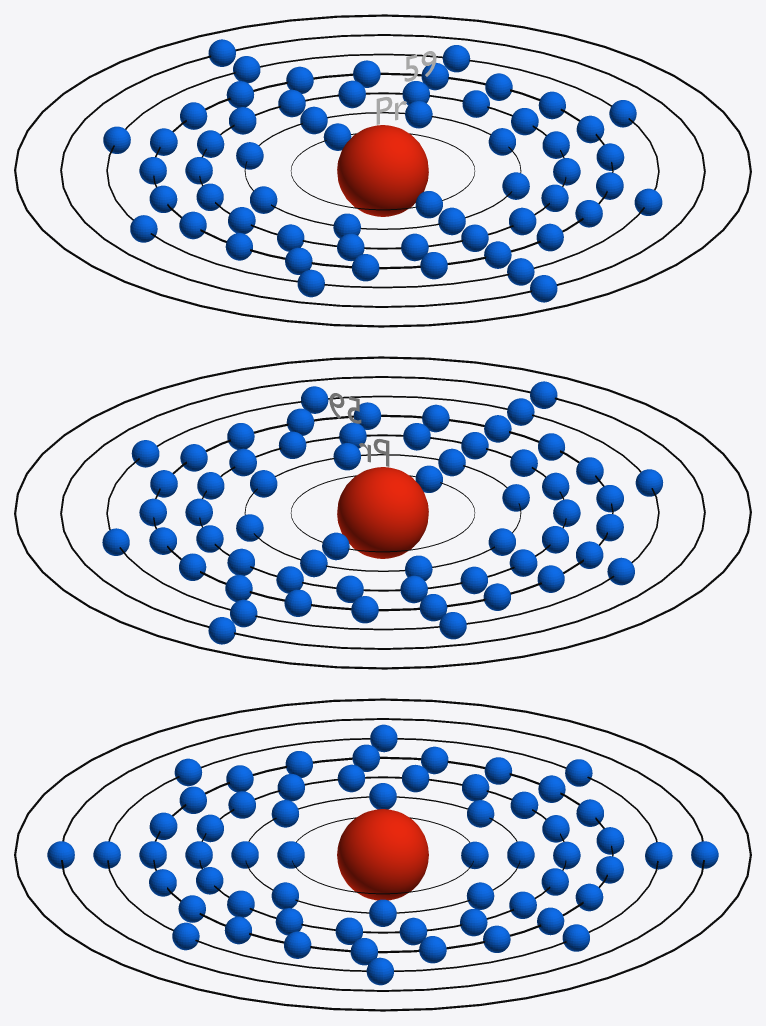
3 views of the same model, one above another, from view 1: azimuth 30°, elevation 25°; view 2: azimuth 150°, elevation 25°; view 3: azimuth 270°, elevation 25° (orthographic).
Visible parts, largest first — view 1: Pr4, Pr3, Proton, Pr5, Pr2, n7, n6, n5, n4, Pr6, Pr1, n3 (+1 smaller); view 2: Pr4, Pr3, Proton, Pr5, Pr2, n7, n6, n5, n4, Pr6, Pr1, n3 (+1 smaller); view 3: Pr4, Pr3, Proton, Pr2, Pr5, n7, n6, n5, n4, Pr1, Pr6, n3 (+2 smaller).
Part boxes in pixels (x1,y1,x2,y2): Pr4: (139,60,624,281); Pr3: (185,80,580,261); Proton: (337,125,428,216); Pr5: (103,45,662,297); Pr2: (236,101,529,238); n7: (14,14,751,327); n6: (60,34,705,307); n5: (106,53,659,288); n4: (153,72,613,269); Pr6: (208,39,557,302); Pr1: (323,123,442,218); n3: (199,92,566,249); Pr4: (139,402,623,623); Pr3: (185,422,580,603); Proton: (337,467,428,558); Pr5: (102,386,663,639); Pr2: (236,443,529,580); n7: (14,356,751,669); n6: (60,376,705,649); n5: (106,395,659,630); n4: (153,414,613,611); Pr6: (208,381,557,644); Pr1: (322,465,442,560); n3: (199,434,566,591); Pr4: (139,744,624,965); Pr3: (185,764,580,945); Proton: (337,809,428,900); Pr2: (231,783,534,926); Pr5: (93,724,672,985); n7: (14,698,751,1011); n6: (61,718,704,991); n5: (107,738,658,971); n4: (153,756,613,953); Pr1: (277,841,488,869); Pr6: (47,841,718,868); n3: (199,776,566,933).
Bounding box in the file's own units: 802 × 180 × 802.
